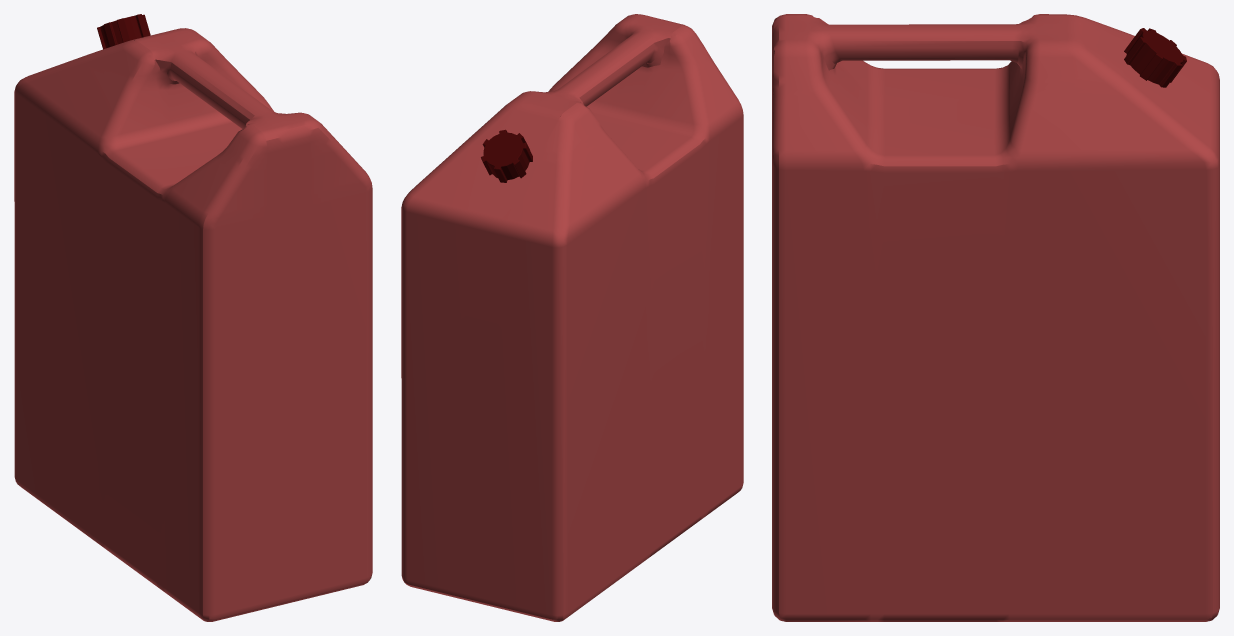
File: GasTank.fbx
3 views of the same model, side by side, from view 1: azimuth 30°, elevation 25°; view 2: azimuth 150°, elevation 25°; view 3: azimuth 270°, elevation 25° (orthographic). The views are drawn at different scales.
Visible parts, largest first — view 1: pCylinder2; view 2: pCylinder2; view 3: pCylinder2.
Boxes of the visible parts, x1,y1,x2,y2 form: pCylinder2: [14, 14, 372, 621]; pCylinder2: [401, 14, 743, 621]; pCylinder2: [772, 14, 1219, 621].
Bounding box in the file's own units: 18 × 47.63 × 35.2.
